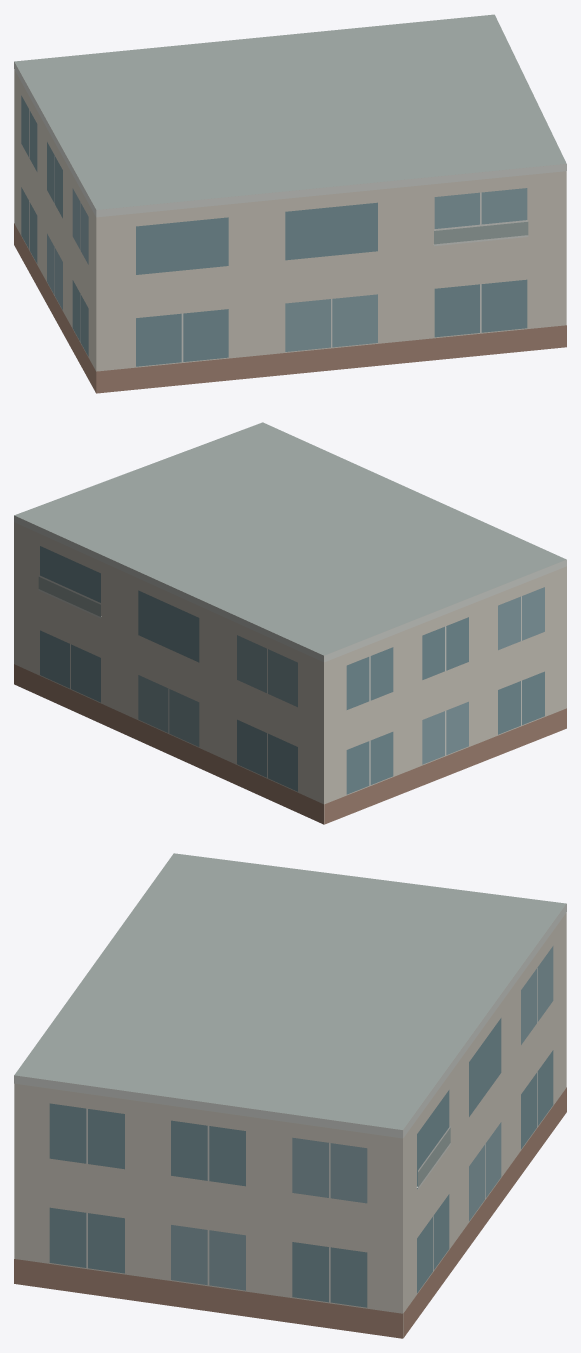
File: survey-upis-32838372.glb
The picture shows the model from 3 angles, top to bottom: view 1: azimuth 30°, elevation 25°; view 2: azimuth 150°, elevation 25°; view 3: azimuth 270°, elevation 25°; orthographic projection. The views are drawn at different scales.
Visible parts, largest first — view 1: survey-upis-32838372.tmp; view 2: survey-upis-32838372.tmp; view 3: survey-upis-32838372.tmp.
Boxes of the visible parts, x1,y1,x2,y2 form: survey-upis-32838372.tmp: [14, 14, 566, 393]; survey-upis-32838372.tmp: [14, 422, 566, 824]; survey-upis-32838372.tmp: [14, 853, 566, 1338].
Bounding box in the file's own units: 17.39 × 6.1 × 14.66.
